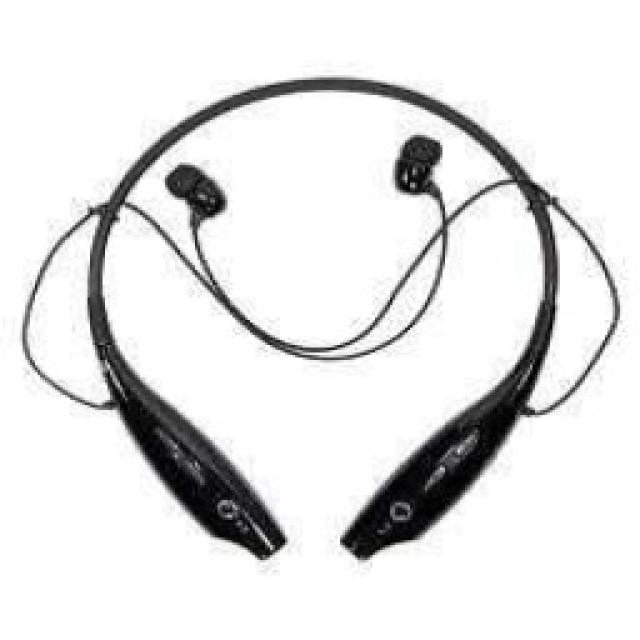headphones: (20, 72, 620, 562)
